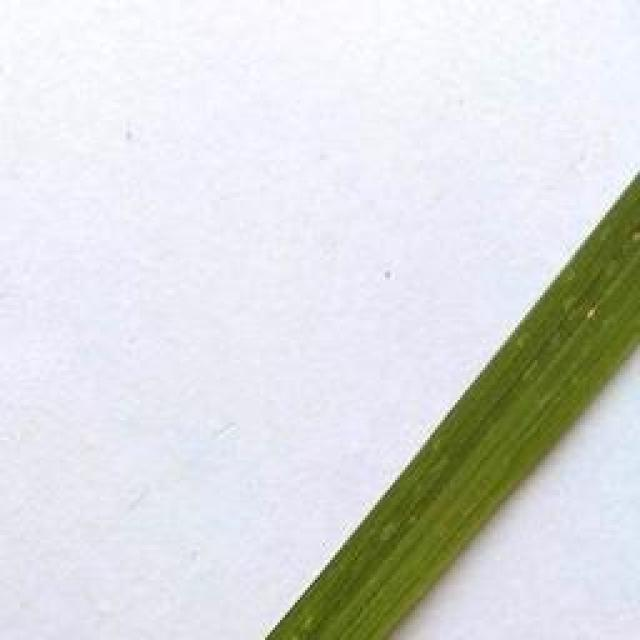Unhealthy: (583, 299, 601, 322), (628, 220, 640, 244)
